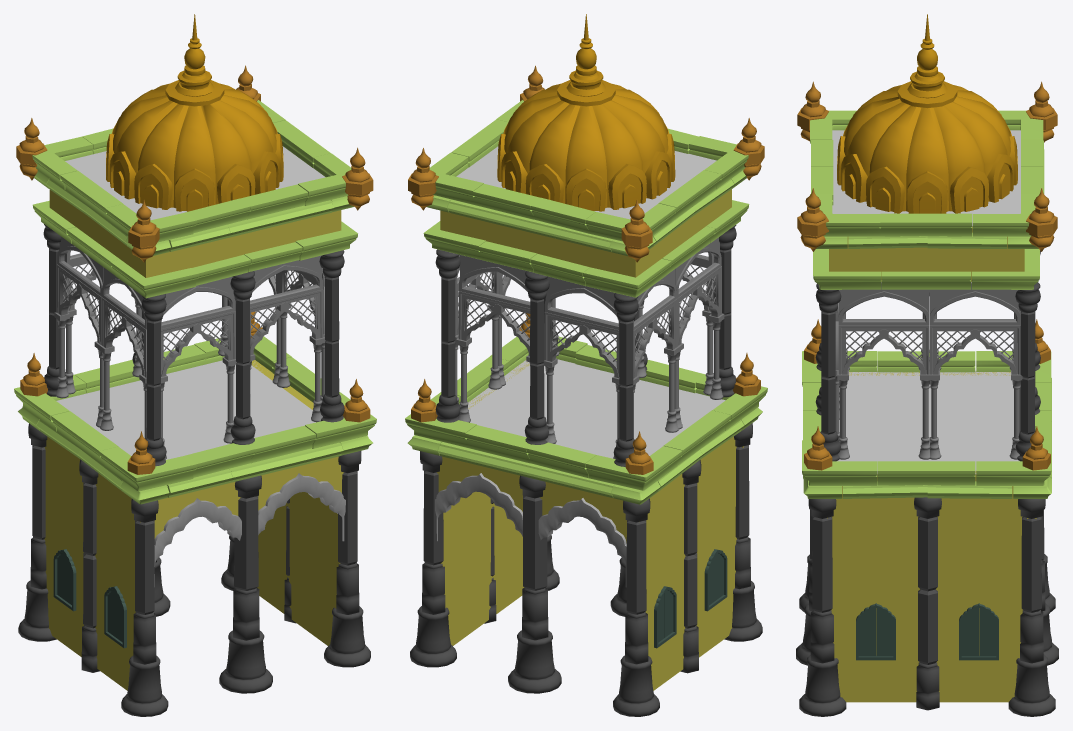
The model's file is SM_building_altar.fbx.
The picture shows the model from 3 angles, left to right: view 1: azimuth 30°, elevation 25°; view 2: azimuth 150°, elevation 25°; view 3: azimuth 270°, elevation 25°; orthographic projection.
Parts seen in each view (by area): view 1: Cylinder424396; view 2: Cylinder424396; view 3: Cylinder424396.
Part boxes in pixels (x1,y1,x2,y2): Cylinder424396: [14, 14, 376, 716]; Cylinder424396: [405, 14, 767, 716]; Cylinder424396: [796, 14, 1058, 716].
Size of the model in its own units: 258 by 637 by 236.
